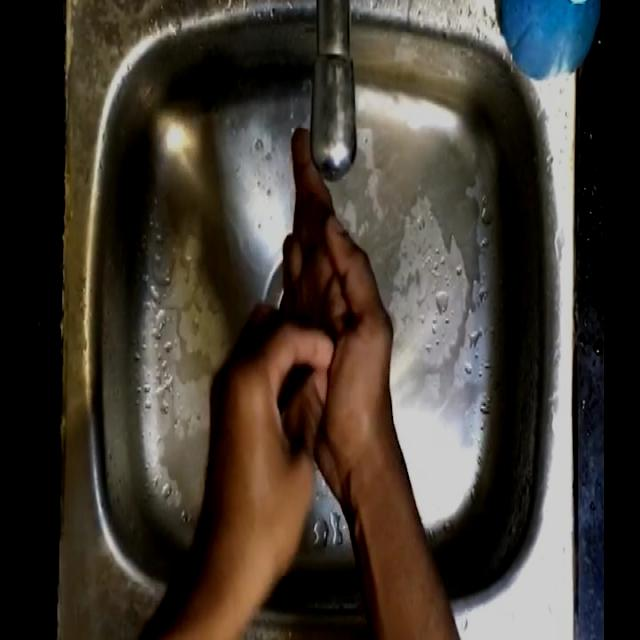step_6: (199, 113, 405, 546)
